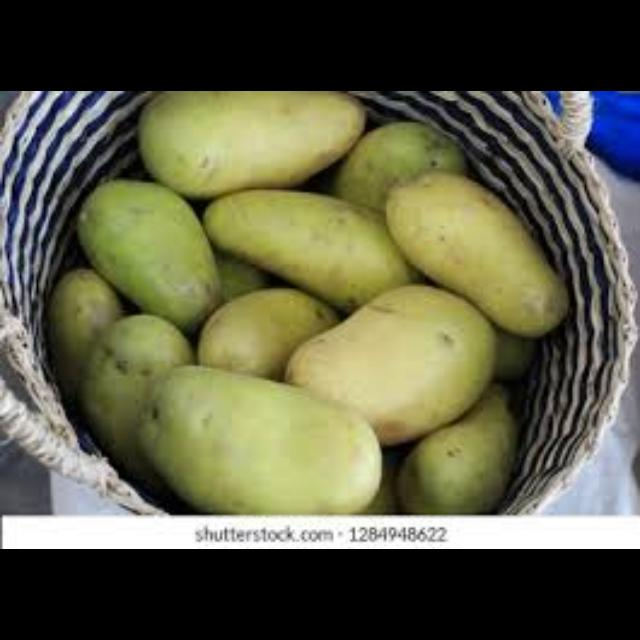Defected potato: (129, 365, 391, 523), (286, 280, 496, 450), (382, 170, 576, 338), (204, 185, 428, 322), (130, 91, 364, 197), (76, 312, 204, 470), (73, 182, 217, 318), (338, 117, 464, 226), (188, 292, 336, 382), (37, 267, 135, 375)
